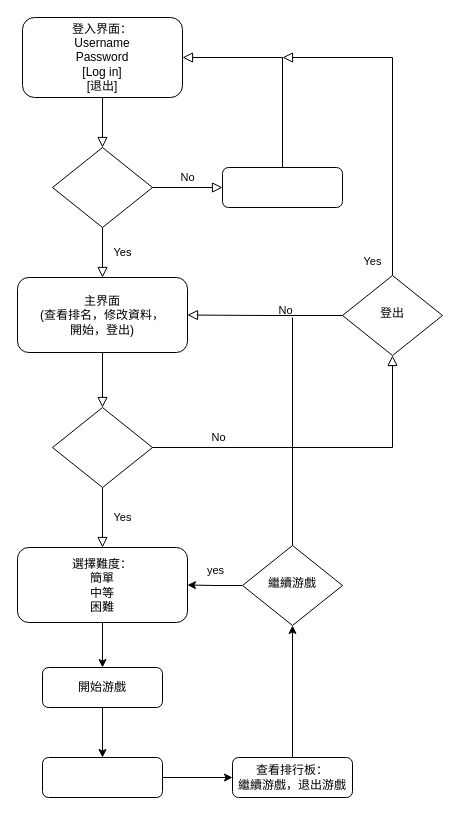
Some shapes in this 460 by 815 pixel diagram are drawn without their labels. The centre of each missing label's shape, as x and y in pixels:
Try again: [282,187]
登入成功: [102,187]
結束游戲: [102,777]
開始: [102,447]
